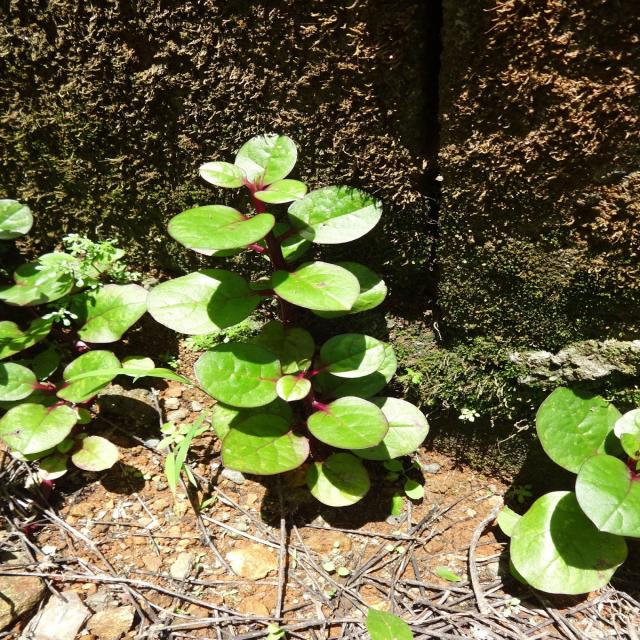Medicinal-Basale: (143, 123, 433, 511)
